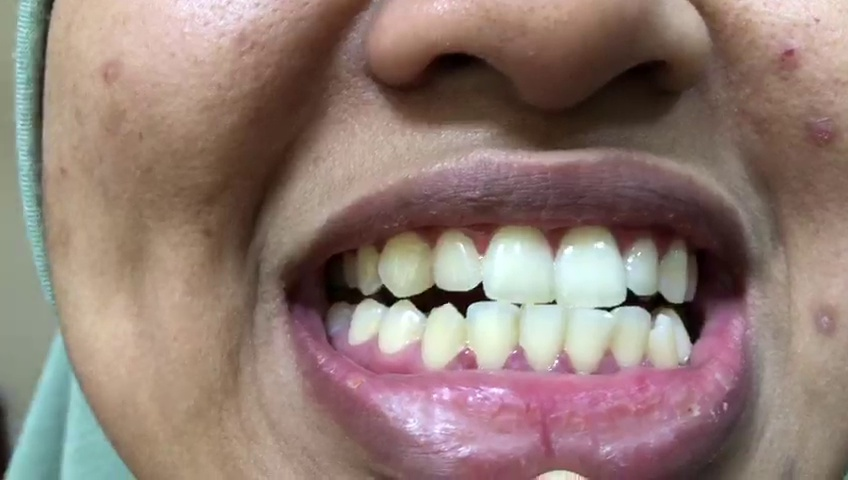1st Molar: (321, 301, 356, 339)
1st Premolar: (378, 301, 421, 356), (350, 237, 381, 294), (662, 308, 693, 364), (684, 251, 698, 302)
2nd Premolar: (347, 300, 384, 350)
Canine: (377, 230, 430, 299), (422, 302, 464, 372), (647, 310, 679, 372), (658, 237, 685, 304)
Central Incisor: (556, 225, 627, 308), (482, 223, 555, 301), (564, 305, 613, 374), (518, 304, 565, 373)
Lateral Incisor: (469, 302, 518, 372), (431, 228, 481, 291), (607, 309, 650, 372), (627, 236, 658, 297)
